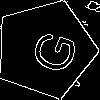G: (20, 24, 80, 77)
